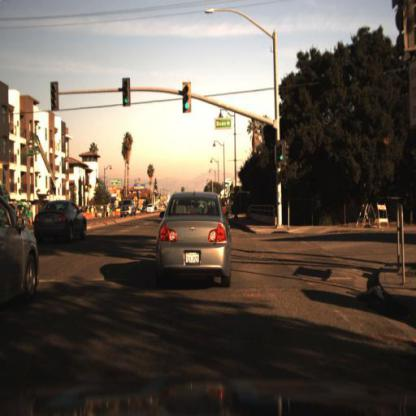car: (143, 182, 233, 304), (2, 188, 48, 320), (26, 184, 96, 262), (31, 189, 92, 252), (117, 196, 138, 224), (120, 198, 138, 219)
trafficLight: (48, 77, 61, 113), (180, 77, 192, 116), (120, 72, 132, 109)
trafficLight-Green: (276, 131, 294, 171), (121, 77, 131, 112), (280, 142, 289, 167)
